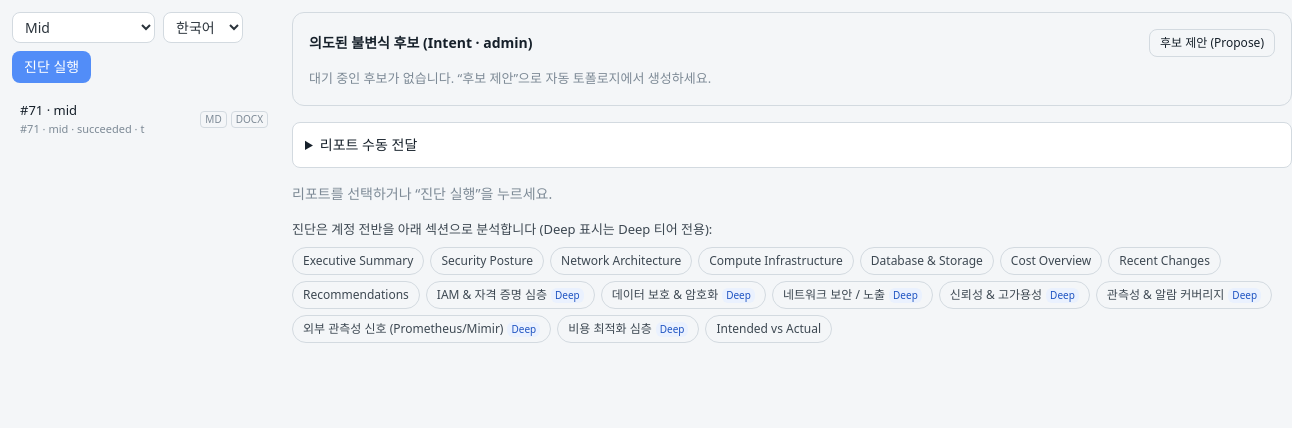
DiagnosisView — invariant assessment coverage › shows explicit full assessment without an unassessed warning
Step 1. Click the button "#71 · mid #71 · mid · succeeded · t" → click(104, 119), box x1=12 y1=95 x2=196 y2=143
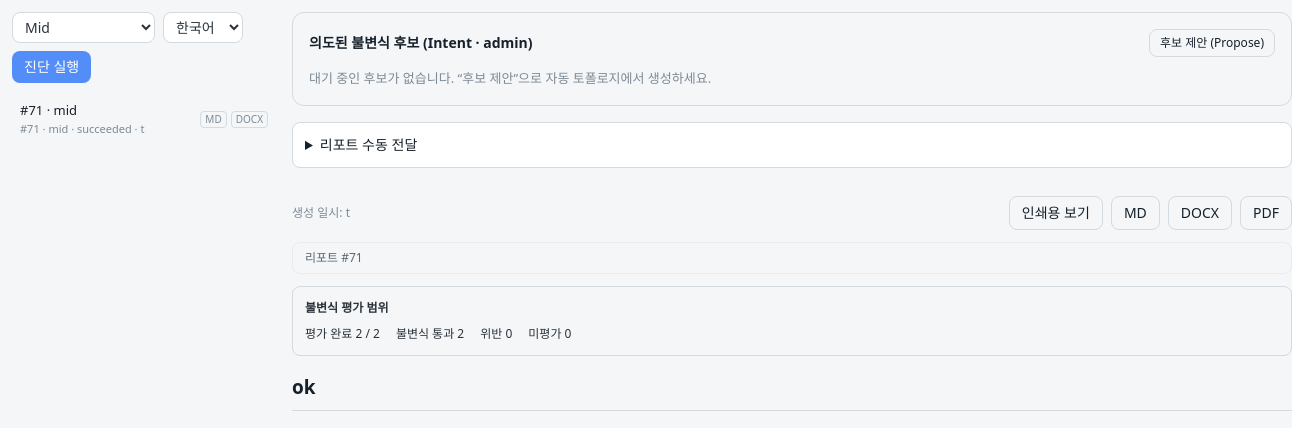
Check: the text "평가 완료 2 / 2" is shown, box x1=305 y1=324 x2=380 y2=342
Check: the text "불변식 통과 2" is shown, box x1=396 y1=324 x2=464 y2=342
